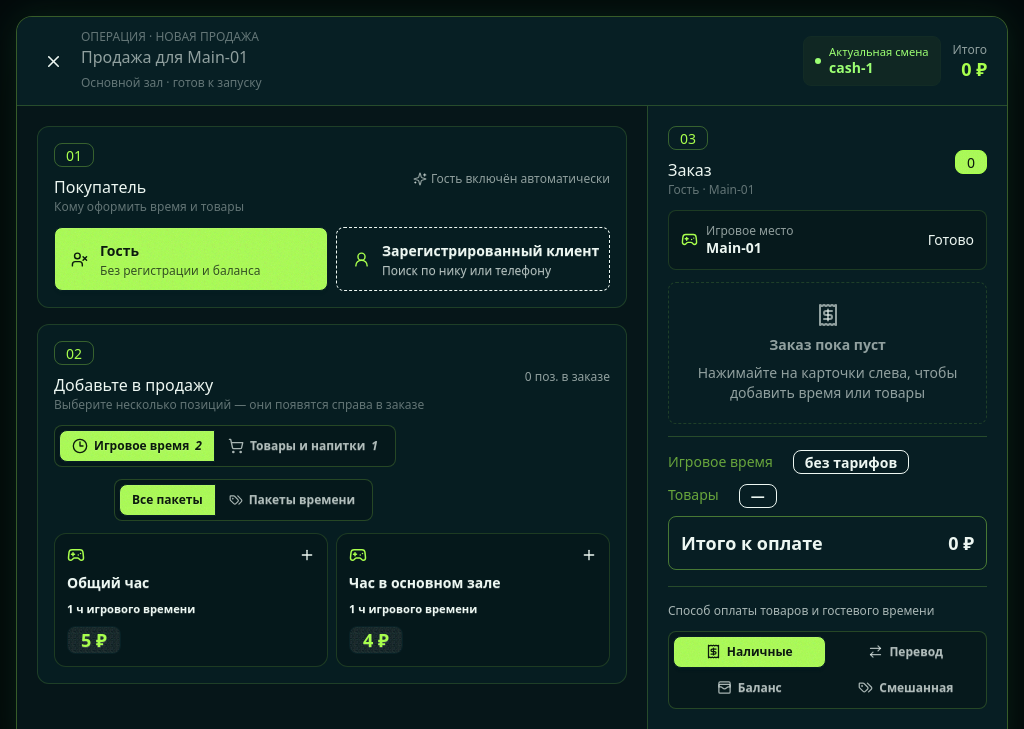
Окно продажи › останавливает подтверждение продажи, если settlement гостя требует сверки
This screenshot has width=1024, height=729.
Click the button "Общий час 1 ч игрового времени 5 ₽" at (191, 600), box [54,533,328,667]
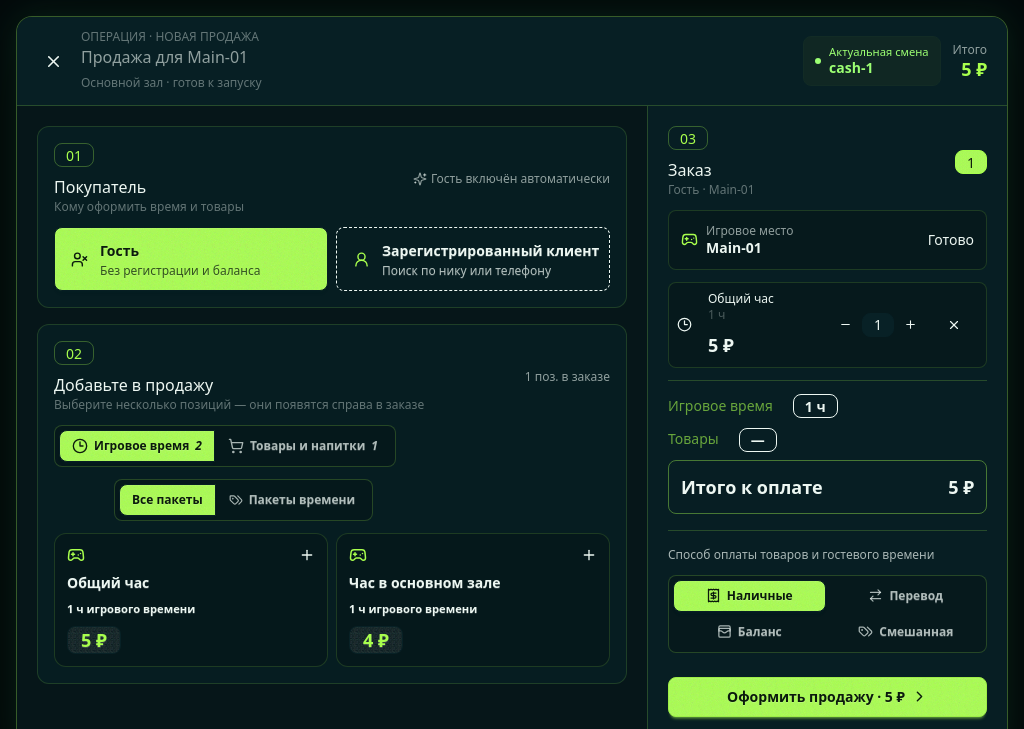
Click the button "Оформить продажу · 5 ₽" at (828, 697), box [668,677,987,717]
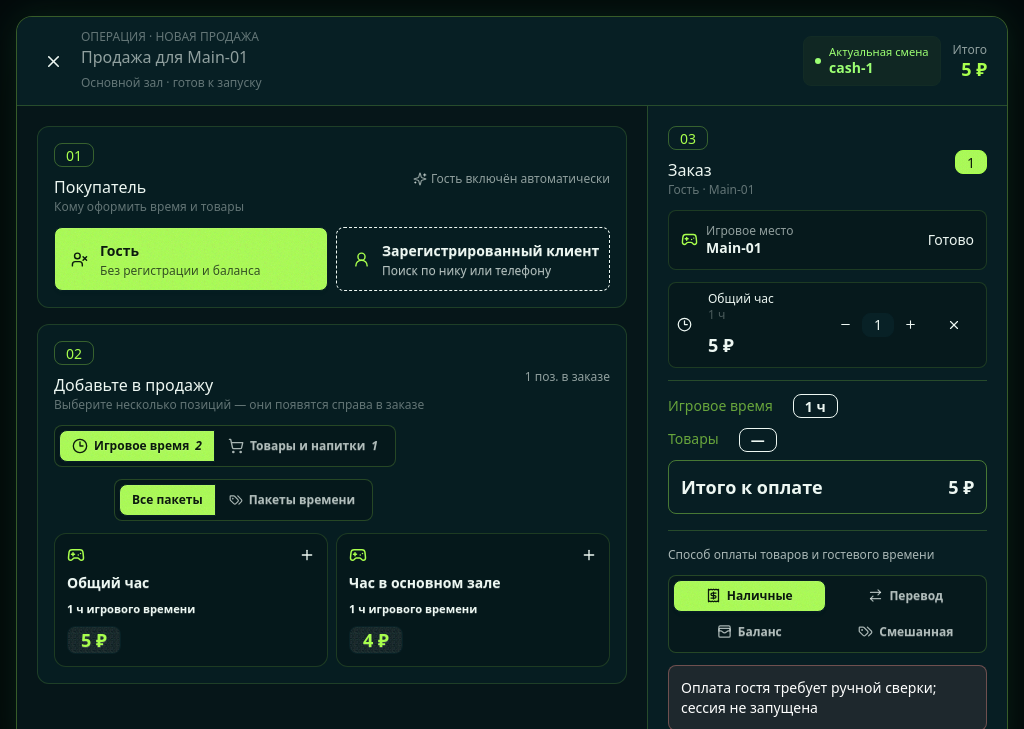
expect the message shows "требует ручной сверки": met, box [681,678,937,717]
